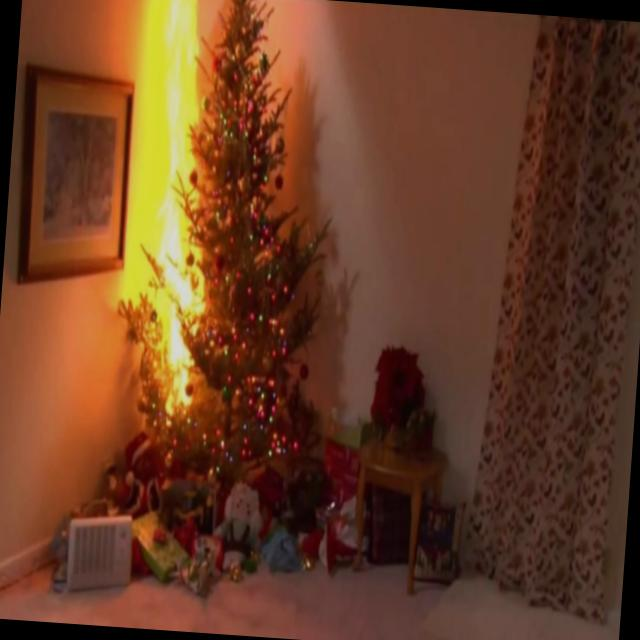fire: (117, 0, 218, 294)
